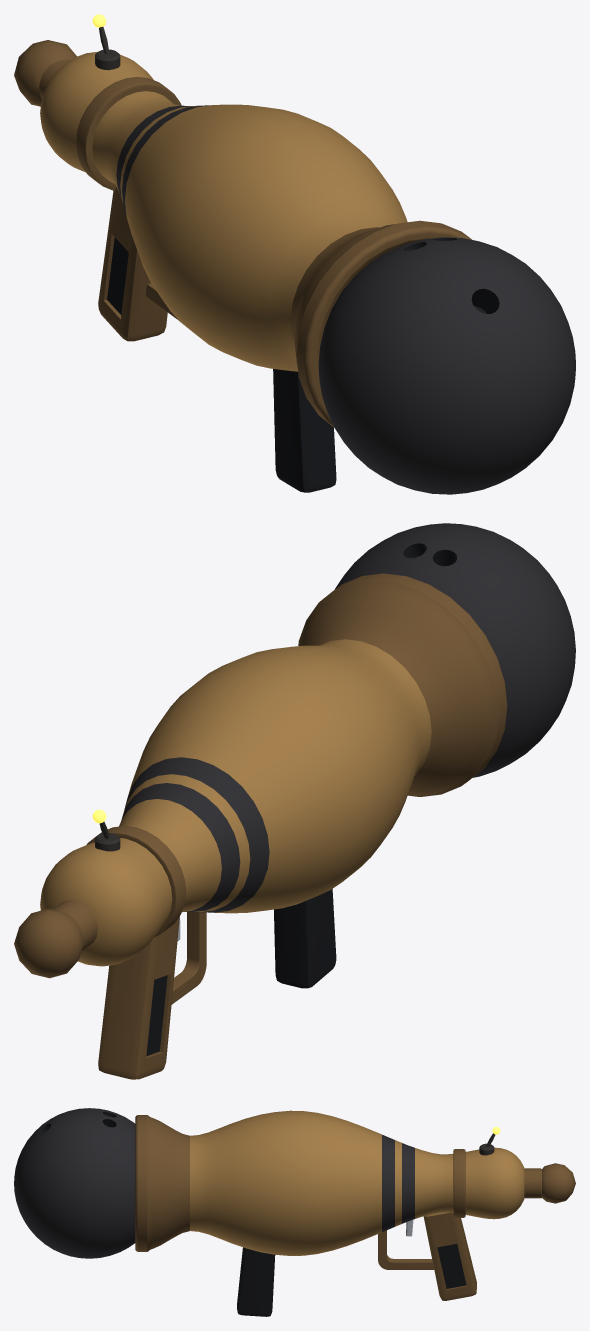
File: w_bowling@bowling_cannon.glb
3 renders of one model, top to bottom at view 1: azimuth 30°, elevation 25°; view 2: azimuth 150°, elevation 25°; view 3: azimuth 270°, elevation 25°, orthographic. The views are drawn at different scales.
Visible parts, largest first — view 1: body_wzA__body__pa07a45, ball_wzN__ball__p2c2c30, body_wzB__frame__p6e5230, fore_wzB__black__p16171b, grip_wzB__frame__p6e5230, ring_wzN__frame__p6e5230, breech_wzN__frame__p6e5230, body_wzN__ball__p2c2c30, grip_wzN__black__p16171b, ball_wzN__black__p16171b; view 2: body_wzA__body__pa07a45, ball_wzN__ball__p2c2c30, body_wzB__frame__p6e5230, grip_wzB__frame__p6e5230, body_wzN__ball__p2c2c30, fore_wzB__black__p16171b, breech_wzN__frame__p6e5230, ring_wzN__frame__p6e5230, grip_wzN__black__p16171b; view 3: body_wzA__body__pa07a45, ball_wzN__ball__p2c2c30, body_wzB__frame__p6e5230, grip_wzB__frame__p6e5230, fore_wzB__black__p16171b, body_wzN__ball__p2c2c30, breech_wzN__frame__p6e5230, grip_wzN__black__p16171b, ring_wzN__frame__p6e5230.
Part boxes in pixels (x1,y1,x2,y2): body_wzA__body__pa07a45: [40, 52, 407, 371]; ball_wzN__ball__p2c2c30: [318, 237, 575, 494]; body_wzB__frame__p6e5230: [290, 220, 471, 427]; fore_wzB__black__p16171b: [273, 369, 336, 492]; grip_wzB__frame__p6e5230: [98, 186, 178, 341]; ring_wzN__frame__p6e5230: [76, 77, 181, 190]; breech_wzN__frame__p6e5230: [14, 40, 76, 106]; body_wzN__ball__p2c2c30: [116, 105, 212, 215]; grip_wzN__black__p16171b: [107, 237, 128, 314]; ball_wzN__black__p16171b: [403, 238, 499, 313]; body_wzA__body__pa07a45: [40, 639, 431, 966]; ball_wzN__ball__p2c2c30: [335, 523, 575, 777]; body_wzB__frame__p6e5230: [298, 573, 507, 796]; grip_wzB__frame__p6e5230: [98, 911, 206, 1079]; body_wzN__ball__p2c2c30: [121, 757, 269, 912]; fore_wzB__black__p16171b: [274, 889, 336, 988]; breech_wzN__frame__p6e5230: [14, 900, 97, 978]; ring_wzN__frame__p6e5230: [86, 826, 185, 937]; grip_wzN__black__p16171b: [146, 975, 167, 1056]; body_wzA__body__pa07a45: [190, 1110, 524, 1255]; ball_wzN__ball__p2c2c30: [14, 1108, 135, 1258]; body_wzB__frame__p6e5230: [135, 1115, 189, 1251]; grip_wzB__frame__p6e5230: [378, 1212, 476, 1300]; fore_wzB__black__p16171b: [237, 1247, 275, 1316]; body_wzN__ball__p2c2c30: [382, 1134, 414, 1231]; breech_wzN__frame__p6e5230: [524, 1163, 575, 1203]; grip_wzN__black__p16171b: [437, 1244, 466, 1288]; ring_wzN__frame__p6e5230: [453, 1149, 465, 1217].
Size of the model in its own units: 0.22 by 0.3191 by 0.82.
